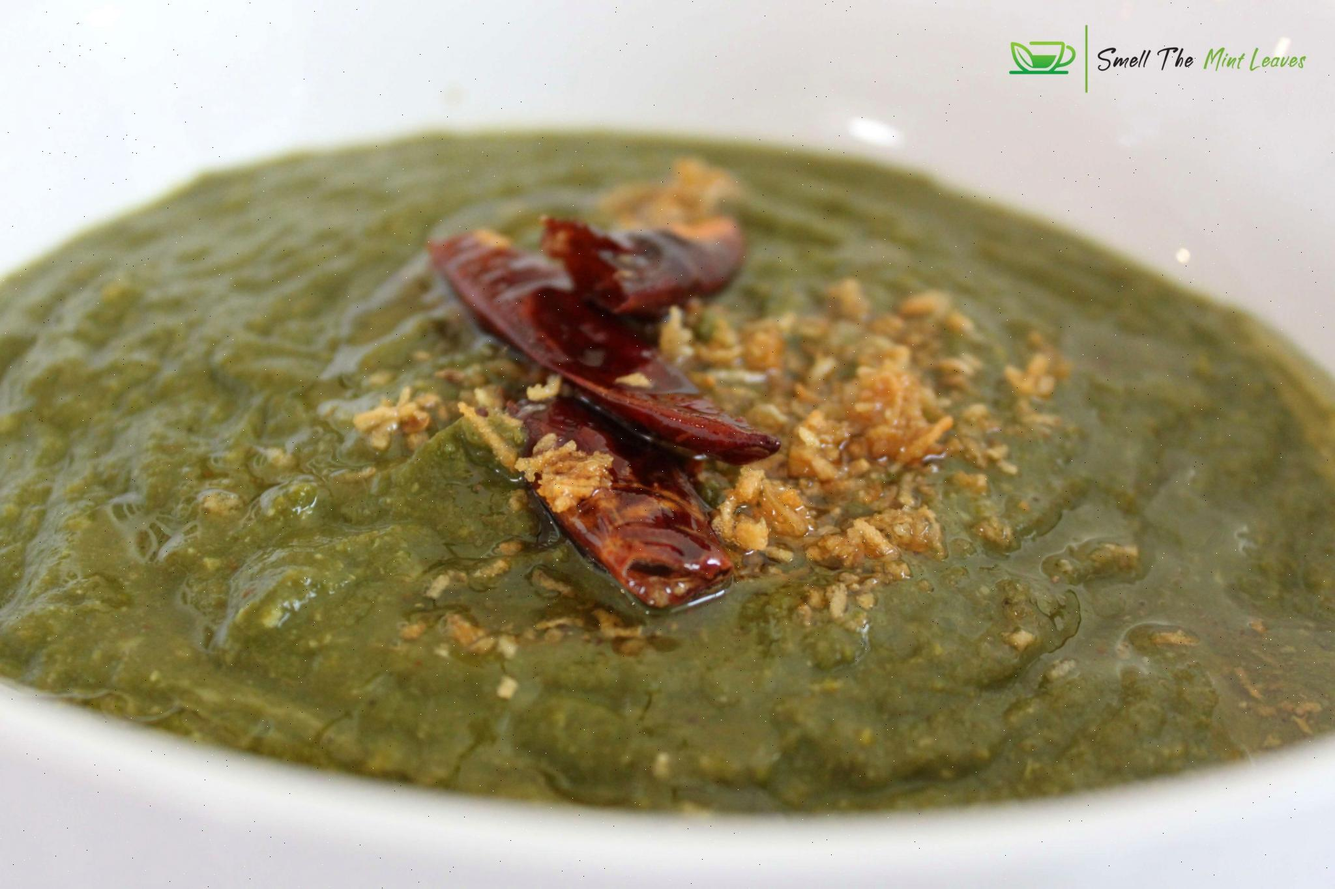saag: (5, 124, 1335, 805)
